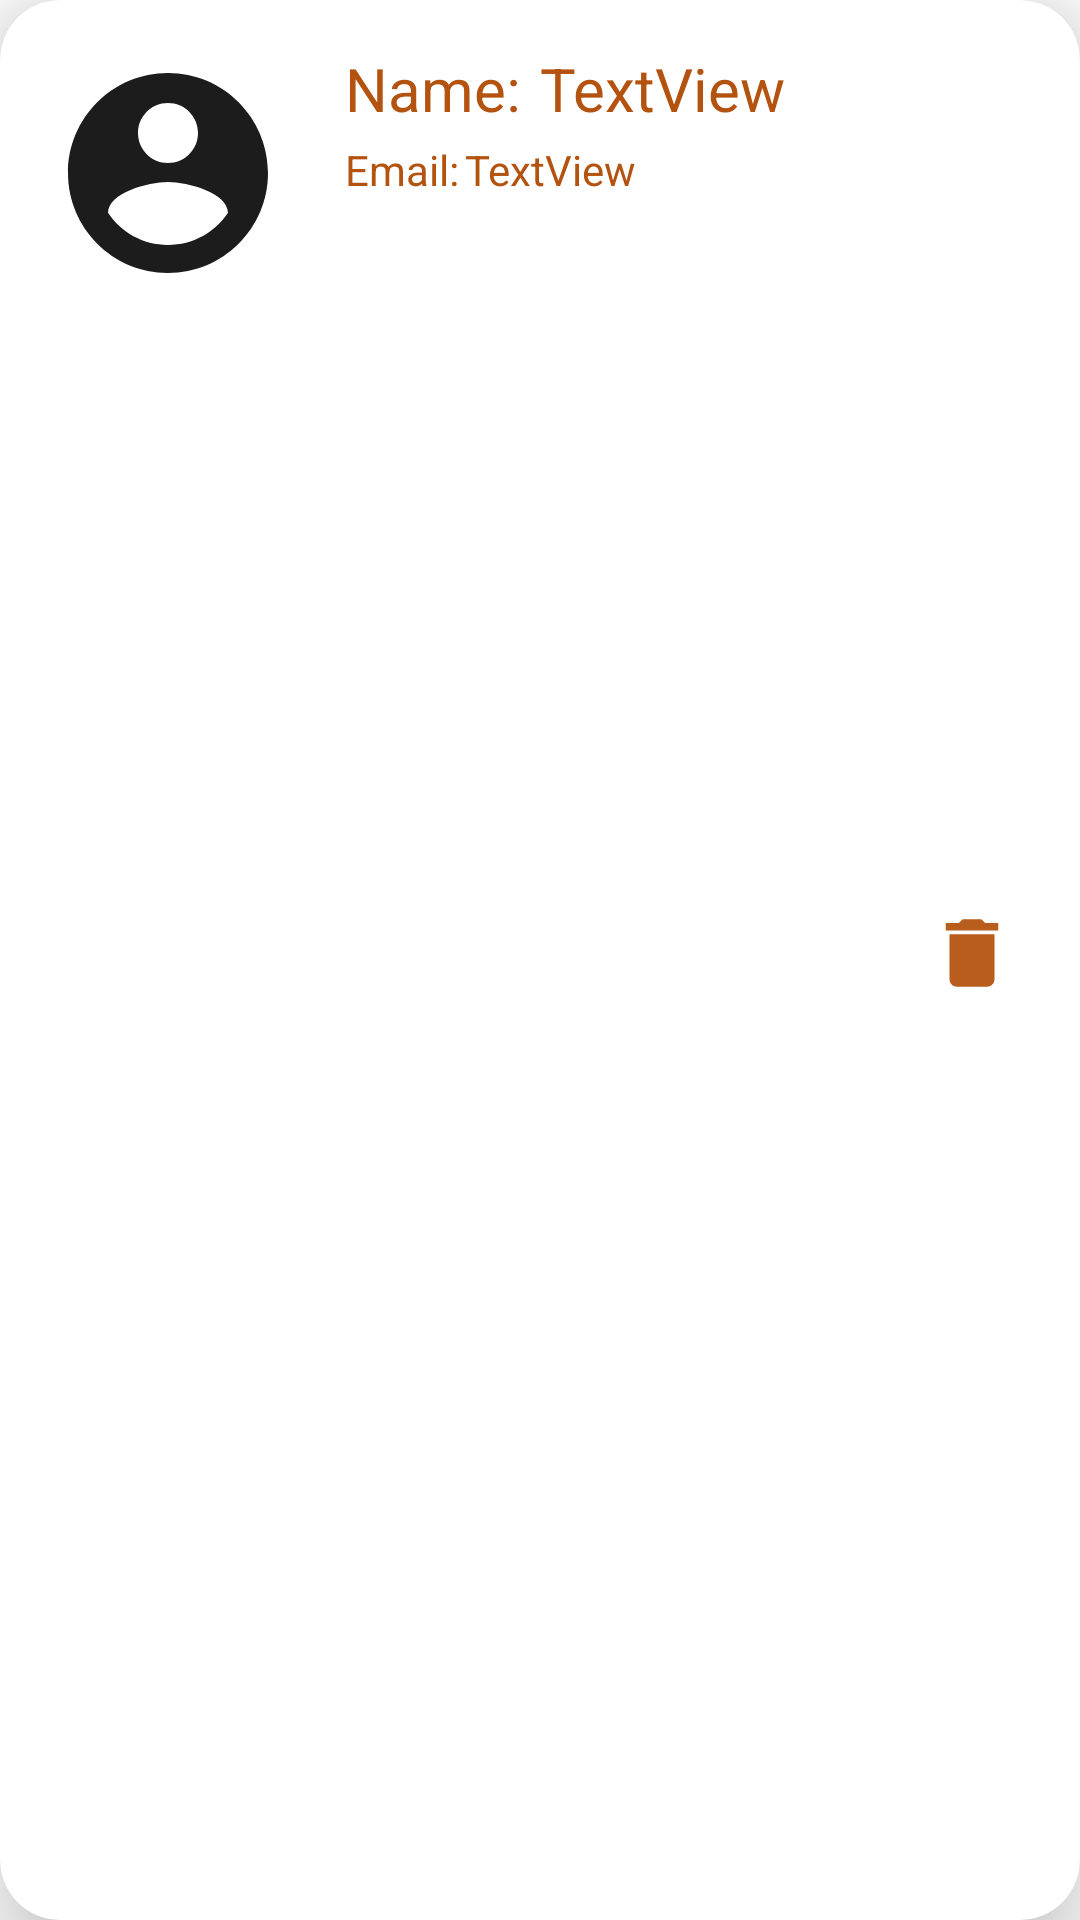

Named icons in this screenshot (1080 × 1920) and their bounding boxes, box(x1, y1, x2, y2):
account circle: box(68, 73, 268, 273)
delete: box(945, 919, 999, 987)
